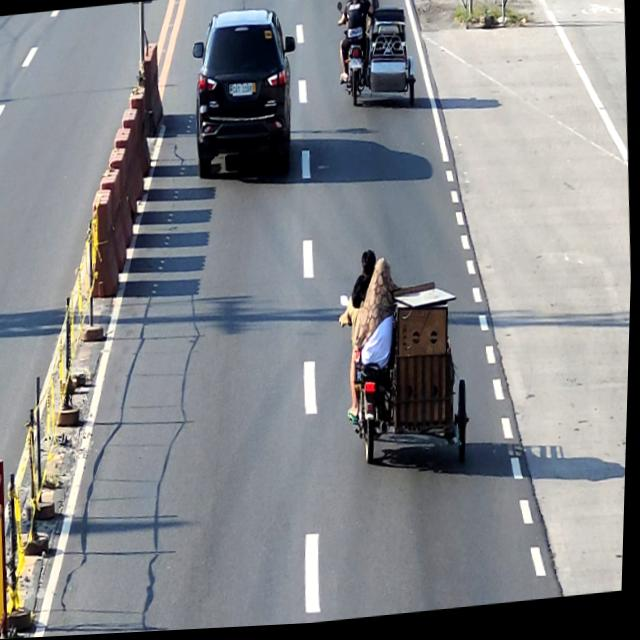Car: (188, 7, 304, 182)
License-Plate: (232, 84, 255, 100), (350, 61, 362, 72)
Tricycle: (335, 284, 478, 480), (332, 0, 420, 118)
